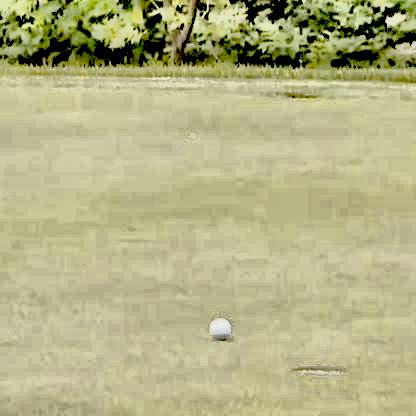golfball: (205, 313, 229, 340)
